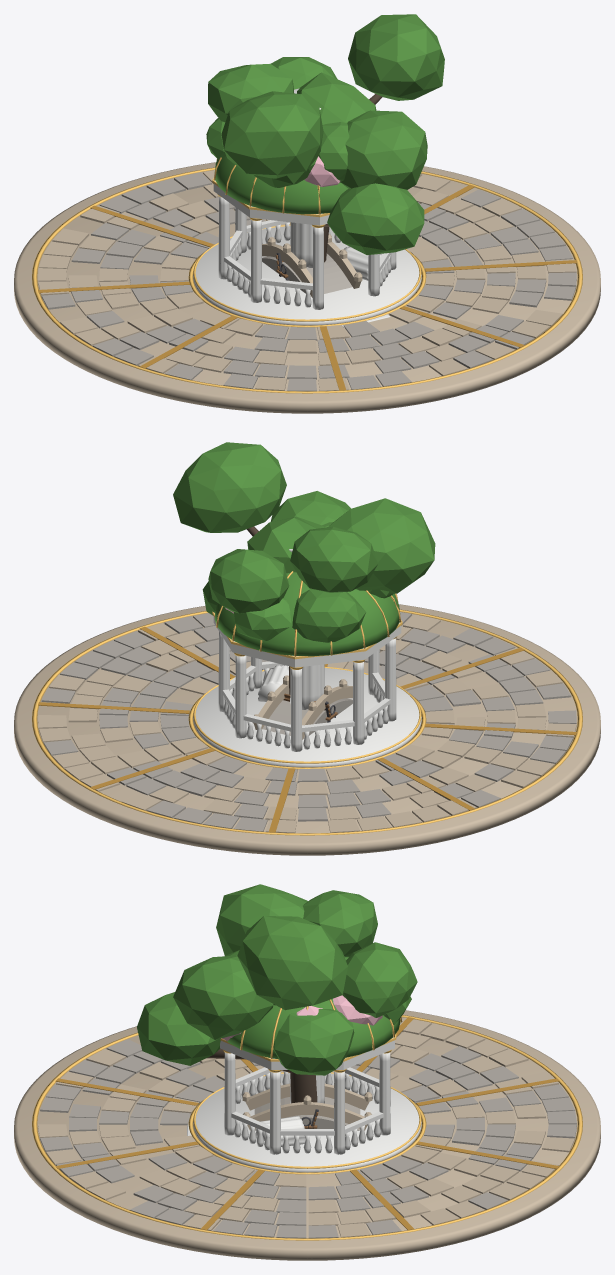
Rendered from Hub.glb.
The picture shows the model from 3 angles, top to bottom: view 1: azimuth 30°, elevation 25°; view 2: azimuth 150°, elevation 25°; view 3: azimuth 270°, elevation 25°; orthographic projection.
Visible parts, largest first — view 1: HubSwingTree__Leaf_1, HubPlaza__StoneWarm_S1, HubPlaza__Stone_1, HubPlaza__StoneWarm_1, HubPlaza__Marble_S1, HubGazebo__Marble_1, HubPlaza__Gold_1, HubPlaza__GoldDeep_1, HubGazebo__Leaf_1, HubTree1__Leaf_1, HubBridge__StoneWarm_1, HubBridge__Stone_S1 (+4 smaller); view 2: HubPlaza__Stone_1, HubPlaza__StoneWarm_S1, HubPlaza__StoneWarm_1, HubSwingTree__Leaf_1, HubGazebo__Marble_1, HubPlaza__Marble_S1, HubPlaza__Gold_1, HubTree1__Leaf_1, HubGazebo__Leaf_1, HubPlaza__GoldDeep_1, HubGazebo__Marble_S1, HubBridge__StoneWarm_1 (+4 smaller); view 3: HubPlaza__Stone_1, HubPlaza__StoneWarm_S1, HubSwingTree__Leaf_1, HubPlaza__StoneWarm_1, HubGazebo__Marble_1, HubPlaza__Marble_S1, HubPlaza__Gold_1, HubTree1__Leaf_1, HubPlaza__GoldDeep_1, HubGazebo__Leaf_1, HubBridge__StoneWarm_1, HubGazebo__Marble_S1 (+5 smaller).
Boxes of the visible parts, box(x1,y1,x2,y2) form: HubSwingTree__Leaf_1: box(208, 14, 444, 255); HubPlaza__StoneWarm_S1: box(14, 162, 600, 413); HubPlaza__Stone_1: box(41, 172, 576, 391); HubPlaza__StoneWarm_1: box(38, 170, 576, 390); HubPlaza__Marble_S1: box(193, 226, 421, 325); HubGazebo__Marble_1: box(218, 196, 396, 309); HubPlaza__Gold_1: box(32, 167, 582, 393); HubPlaza__GoldDeep_1: box(38, 184, 576, 390); HubGazebo__Leaf_1: box(214, 156, 348, 214); HubTree1__Leaf_1: box(206, 118, 349, 187); HubBridge__StoneWarm_1: box(262, 233, 362, 297); HubBridge__Stone_S1: box(262, 253, 352, 297); HubPlaza__Stone_1: box(41, 612, 576, 831); HubPlaza__StoneWarm_S1: box(14, 604, 600, 855); HubPlaza__StoneWarm_1: box(38, 614, 576, 833); HubSwingTree__Leaf_1: box(173, 442, 435, 613); HubGazebo__Marble_1: box(218, 631, 396, 751); HubPlaza__Marble_S1: box(193, 668, 421, 767); HubPlaza__Gold_1: box(32, 609, 582, 835); HubTree1__Leaf_1: box(202, 522, 393, 642); HubGazebo__Leaf_1: box(214, 572, 400, 656); HubPlaza__GoldDeep_1: box(38, 626, 576, 832); HubGazebo__Marble_S1: box(213, 616, 401, 667); HubBridge__StoneWarm_1: box(252, 675, 352, 739); HubPlaza__Stone_1: box(40, 1017, 576, 1238); HubPlaza__StoneWarm_S1: box(14, 1010, 600, 1260); HubSwingTree__Leaf_1: box(137, 884, 417, 1065); HubPlaza__StoneWarm_1: box(38, 1017, 574, 1237); HubGazebo__Marble_1: box(224, 1052, 390, 1154); HubPlaza__Marble_S1: box(193, 1073, 421, 1172); HubPlaza__Gold_1: box(32, 1015, 582, 1240); HubTree1__Leaf_1: box(225, 950, 411, 1075); HubPlaza__GoldDeep_1: box(55, 1017, 559, 1230); HubGazebo__Leaf_1: box(227, 959, 400, 1059); HubBridge__StoneWarm_1: box(242, 1083, 372, 1130); HubGazebo__Marble_S1: box(187, 1037, 394, 1135).
Bounding box in the file's own units: 77 × 37.32 × 77.
